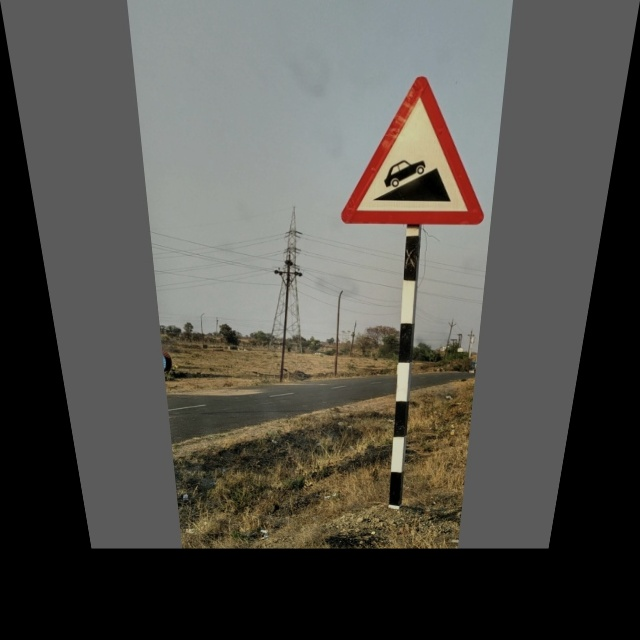Steep_Ascent: (334, 71, 501, 232)
